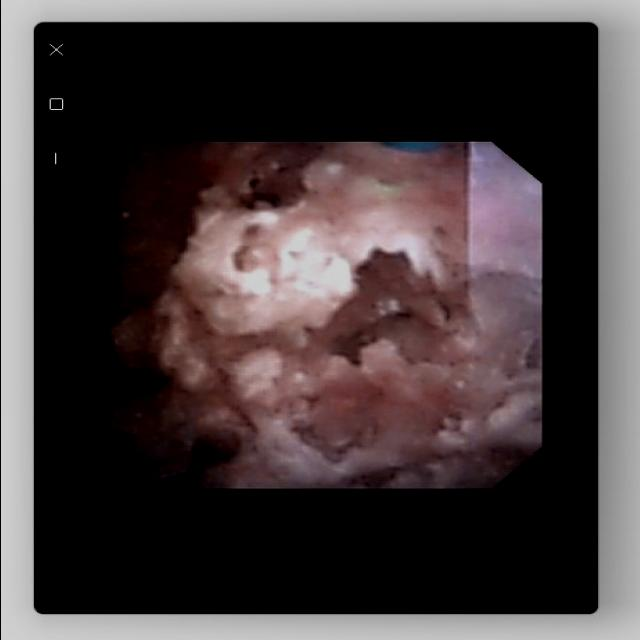stone: (109, 149, 531, 483)
